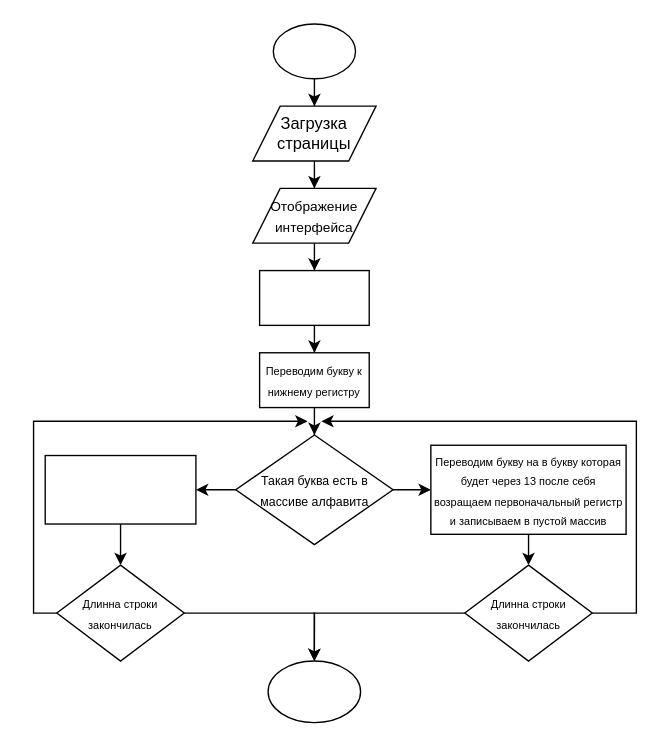
The diagram is 671 pixels wide and 747 high, and some of its shapes have lost their labels. The centre of each missing label's shape, as x and y in pixels:
Записываем в новый массив без изменений: [120,489]
Конец: [314,691]
Начало: [314,51]
Получаем текст: [313,297]
